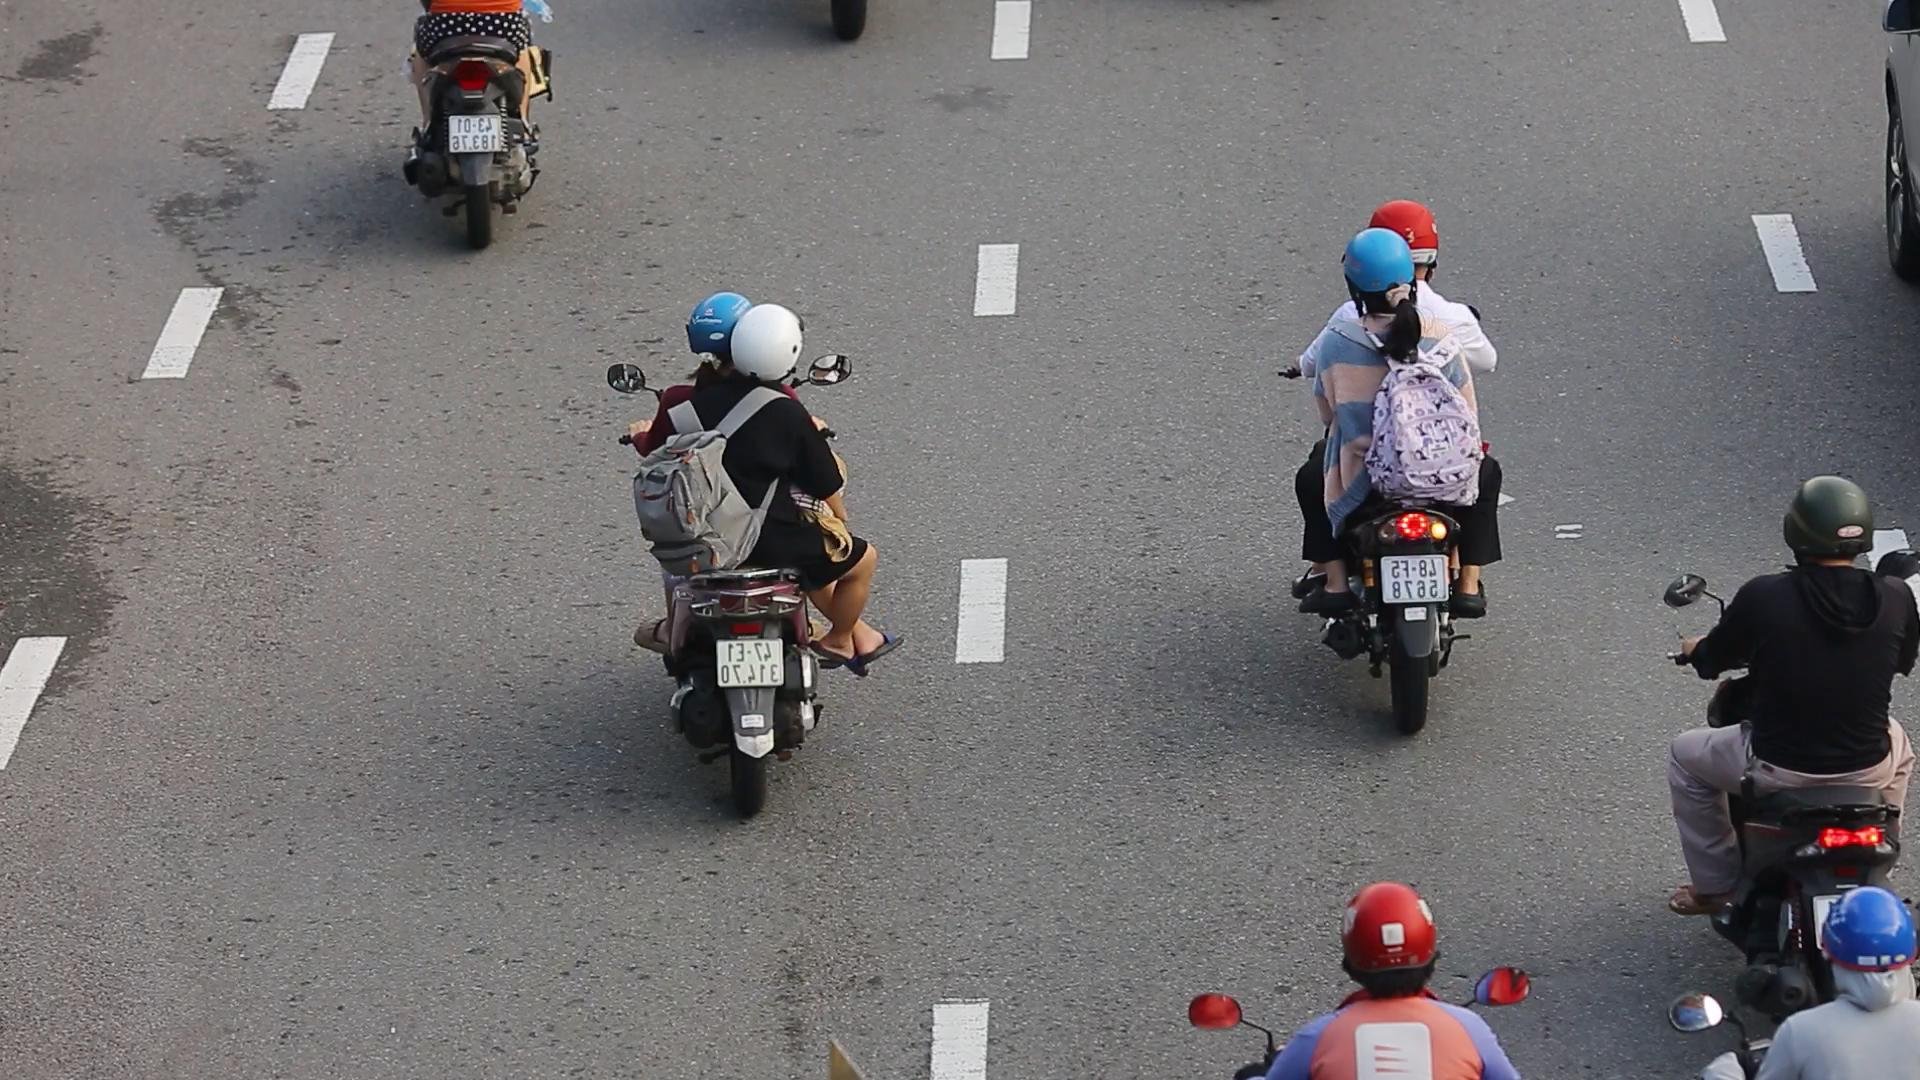motobike: (599, 281, 903, 827), (1259, 190, 1534, 745)
